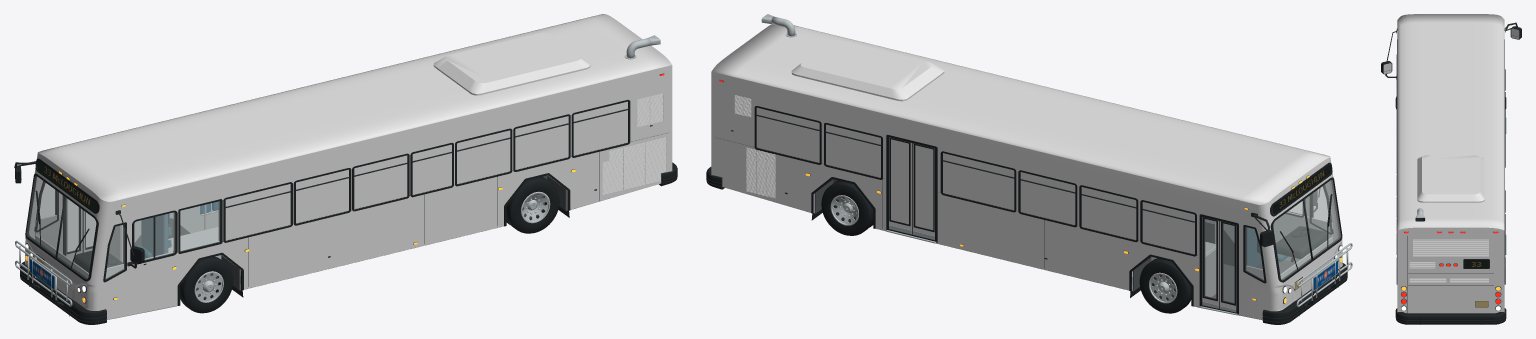
File: bus.glb
3 views of the same model, side by side, from view 1: azimuth 30°, elevation 25°; view 2: azimuth 150°, elevation 25°; view 3: azimuth 270°, elevation 25° (orthographic). The views are drawn at different scales.
Visible parts, largest first — view 1: Continuous front and side body, Continuous crowned roof, Static | Rubber and window gaskets.001, Roof HVAC formed cover, Windshield curved surface, Static | Interior | light wall panels, FILM Left Passenger window 00 clear glass, FILM Left Passenger window 06 clear glass, FILM Left Passenger window 05 clear glass, FILM Left Passenger window 02 clear glass, FILM Left Passenger window 04 clear glass, FILM Left Passenger window 01 clear glass (+15 smaller); view 2: Continuous front and side body, Continuous crowned roof, Static | Rubber and window gaskets.001, Roof HVAC formed cover, Windshield curved surface, FILM Right Passenger window 03 clear glass, FILM Right Passenger window 05 clear glass, FILM Right Passenger window 02 clear glass, FILM Right Passenger window 01 clear glass, FILM Right Passenger window 04 clear glass, Static | Interior | light wall panels, FILM Right Passenger window 00 clear glass (+15 smaller); view 3: Continuous crowned roof, Rear formed body panel, Roof HVAC formed cover, Rear bumper molded channel, Static | Rubber and window gaskets.001, Static | Black anodized window frames, Continuous front and side body, Static | Black anodized window frames.003, Rear destination glass, Static | Rubber and window gaskets.004, Static | Red lenses.
Part boxes in pixels (x1,y1,x2,y2): Continuous front and side body: [25, 65, 672, 319]; Continuous crowned roof: [38, 14, 671, 201]; Static | Rubber and window gaskets.001: [25, 100, 630, 305]; Roof HVAC formed cover: [433, 32, 590, 95]; Windshield curved surface: [27, 176, 95, 278]; Static | Interior | light wall panels: [35, 203, 240, 278]; FILM Left Passenger window 00 clear glass: [225, 184, 290, 240]; FILM Left Passenger window 06 clear glass: [573, 101, 627, 155]; FILM Left Passenger window 05 clear glass: [515, 116, 568, 169]; FILM Left Passenger window 02 clear glass: [354, 155, 407, 209]; FILM Left Passenger window 04 clear glass: [457, 130, 510, 183]; FILM Left Passenger window 01 clear glass: [296, 169, 348, 223]; Continuous front and side body: [711, 71, 1342, 319]; Continuous crowned roof: [711, 24, 1329, 204]; Static | Rubber and window gaskets.001: [754, 106, 1342, 314]; Roof HVAC formed cover: [791, 40, 944, 101]; Windshield curved surface: [1273, 180, 1340, 280]; FILM Right Passenger window 03 clear glass: [943, 153, 1014, 210]; FILM Right Passenger window 05 clear glass: [756, 107, 819, 162]; FILM Right Passenger window 02 clear glass: [1020, 172, 1075, 225]; FILM Right Passenger window 01 clear glass: [1081, 187, 1136, 240]; FILM Right Passenger window 04 clear glass: [826, 124, 880, 177]; Static | Interior | light wall panels: [1132, 212, 1332, 296]; FILM Right Passenger window 00 clear glass: [1142, 202, 1194, 254]; Continuous crowned roof: [1397, 14, 1504, 230]; Rear formed body panel: [1397, 227, 1504, 313]; Roof HVAC formed cover: [1417, 155, 1484, 202]; Rear bumper molded channel: [1395, 308, 1506, 324]; Static | Rubber and window gaskets.001: [1396, 39, 1505, 307]; Static | Black anodized window frames: [1396, 54, 1505, 239]; Continuous front and side body: [1397, 16, 1504, 312]; Static | Black anodized window frames.003: [1397, 236, 1504, 312]; Rear destination glass: [1464, 260, 1488, 268]; Static | Rubber and window gaskets.004: [1401, 263, 1501, 310]; Static | Red lenses: [1401, 264, 1500, 303].
Bounding box in the file's own units: 12.8 × 3.12 × 3.34.
27 materials, 3 textured.
